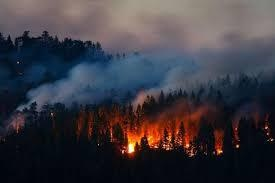fire: (123, 112, 195, 153)
